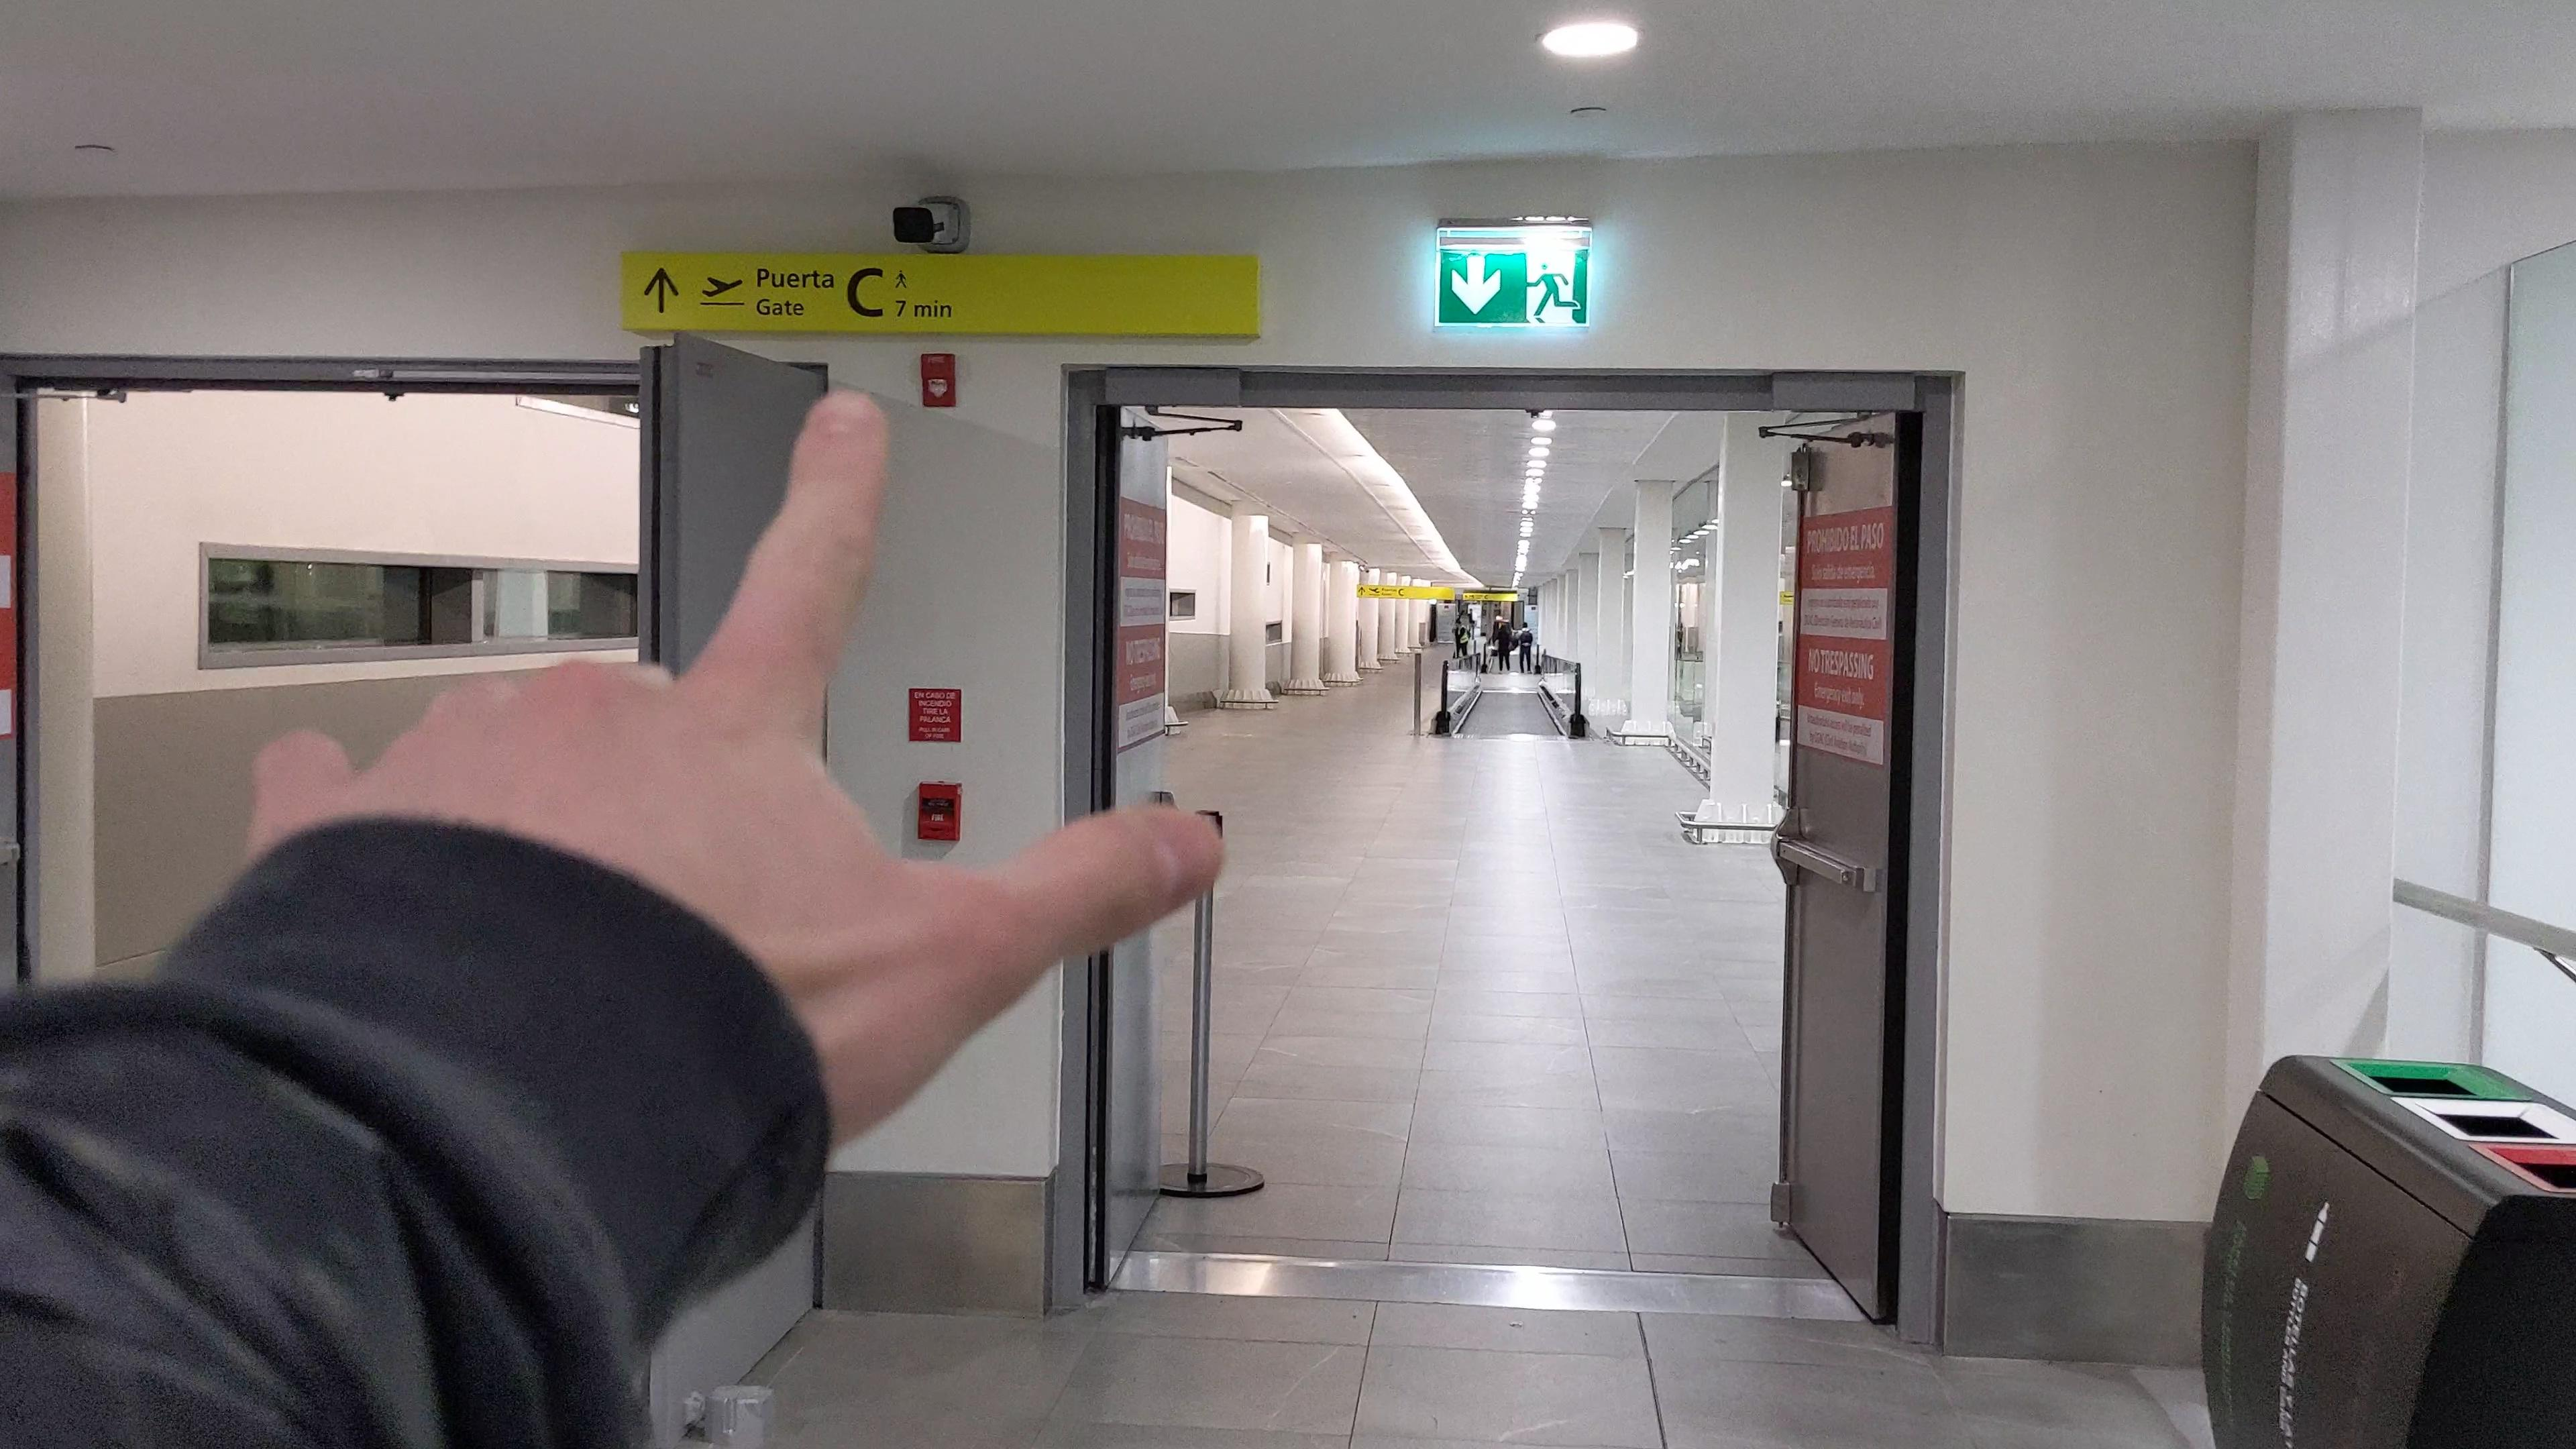airplane symbol: (701, 272, 745, 301), (1368, 586, 1380, 594)
emergency down arrow: (1449, 251, 1506, 318)
emergency exit: (1520, 251, 1582, 331)
no trespassing: (1796, 513, 1886, 768), (1116, 497, 1169, 757)
thin up arrow: (642, 264, 681, 315), (1357, 586, 1366, 596)
